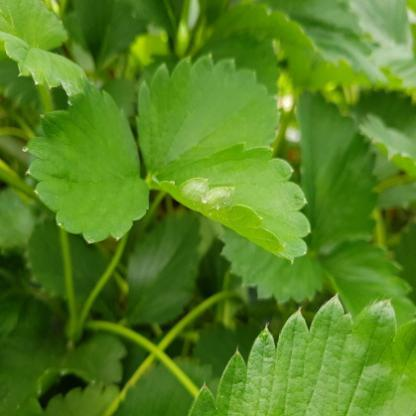Strawberry_Powdery_Mildew_Leaf: (150, 141, 312, 266)
